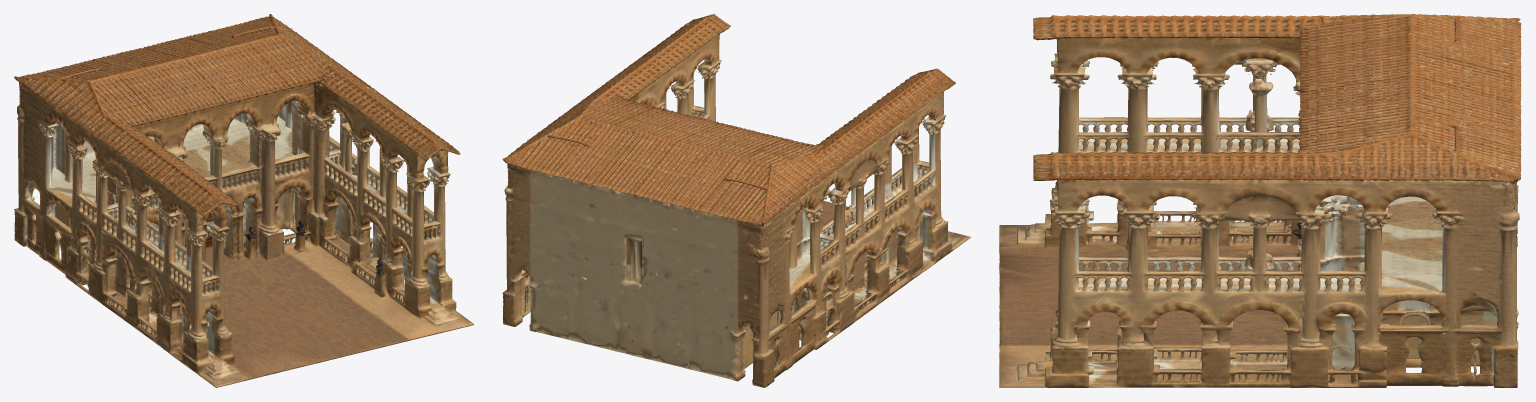
Rendered from project21.glb.
3 views of the same model, side by side, from view 1: azimuth 30°, elevation 25°; view 2: azimuth 150°, elevation 25°; view 3: azimuth 270°, elevation 25° (orthographic). The views are drawn at different scales.
Parts seen in each view (by area): view 1: Mesh_0.001; view 2: Mesh_0.001; view 3: Mesh_0.001.
Part boxes in pixels (left/top/right/bottom): Mesh_0.001: left=14, top=14, right=473, bottom=387; Mesh_0.001: left=502, top=14, right=970, bottom=387; Mesh_0.001: left=999, top=14, right=1521, bottom=387.
Bounding box in the file's own units: 20.27 × 13.66 × 27.67.
1 material, 1 textured.
